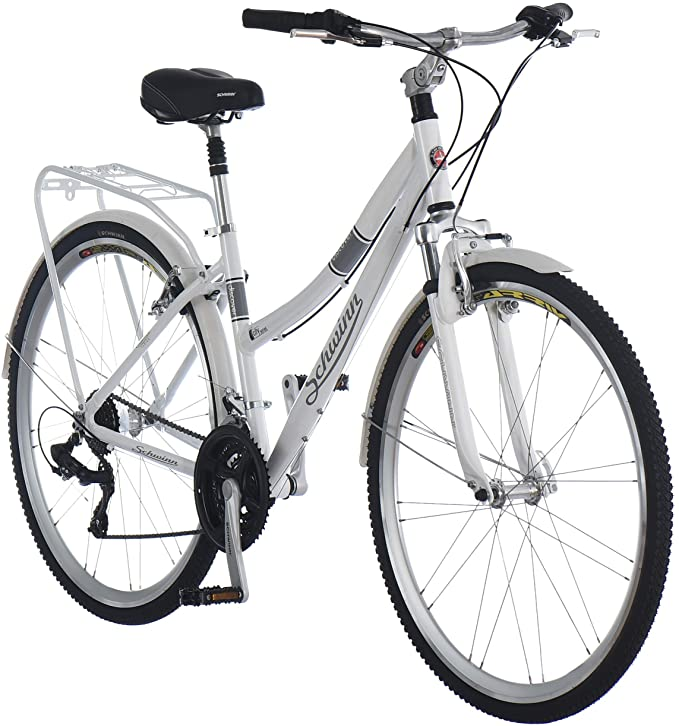bicycle: (2, 3, 674, 726)
